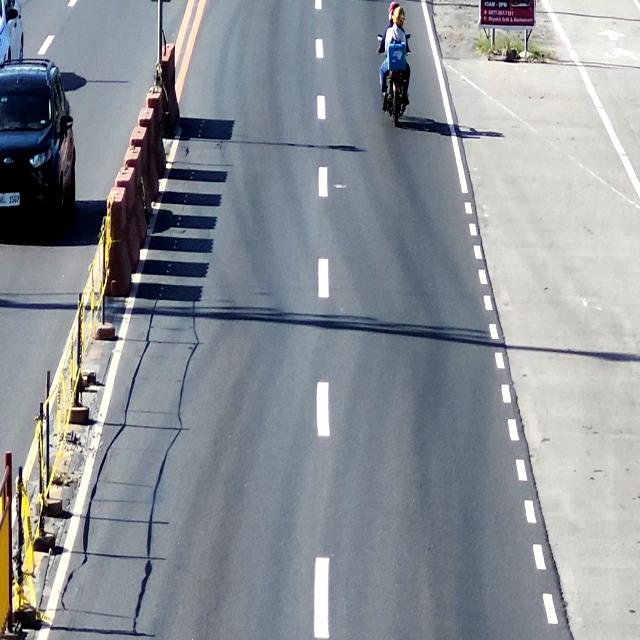Motorcycle: (376, 1, 416, 133)
